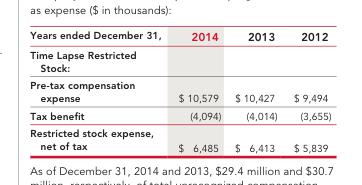table: (29, 28, 330, 153)
table column: (29, 28, 169, 153), (169, 28, 227, 153), (227, 28, 284, 153), (284, 28, 330, 153)
table column header: (29, 28, 330, 45)
table projected row header: (29, 45, 330, 75)
table row: (29, 75, 330, 106), (29, 45, 330, 75), (29, 124, 330, 153), (29, 106, 330, 124), (29, 28, 330, 45)
